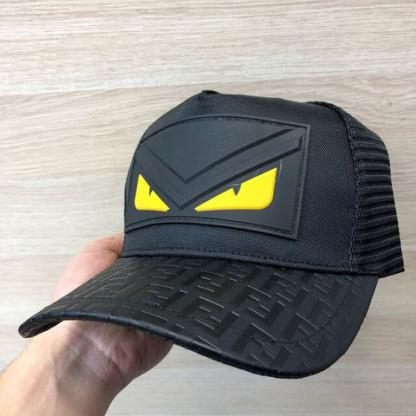cap: (17, 77, 403, 384)
